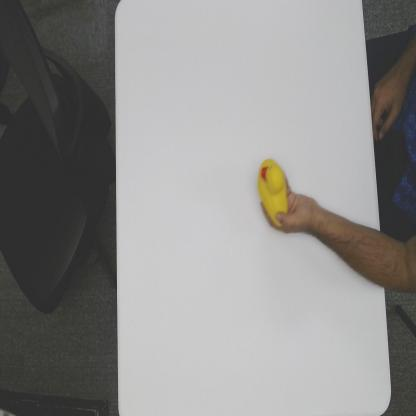Arm: (311, 199, 383, 289)
Duck: (258, 156, 289, 227)
Hand: (260, 174, 311, 234)
